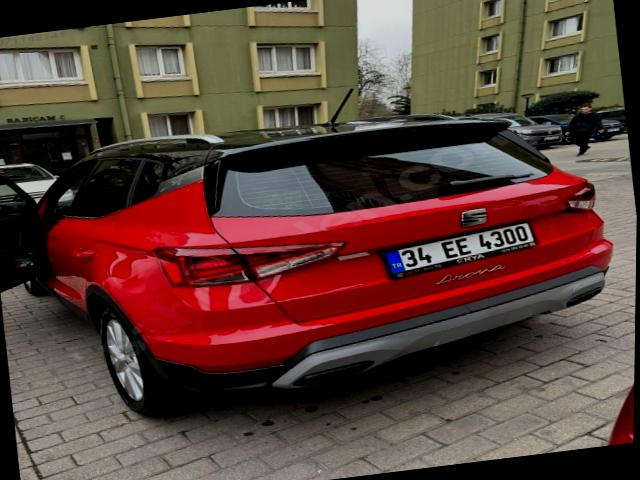plaka: (384, 223, 535, 277)
